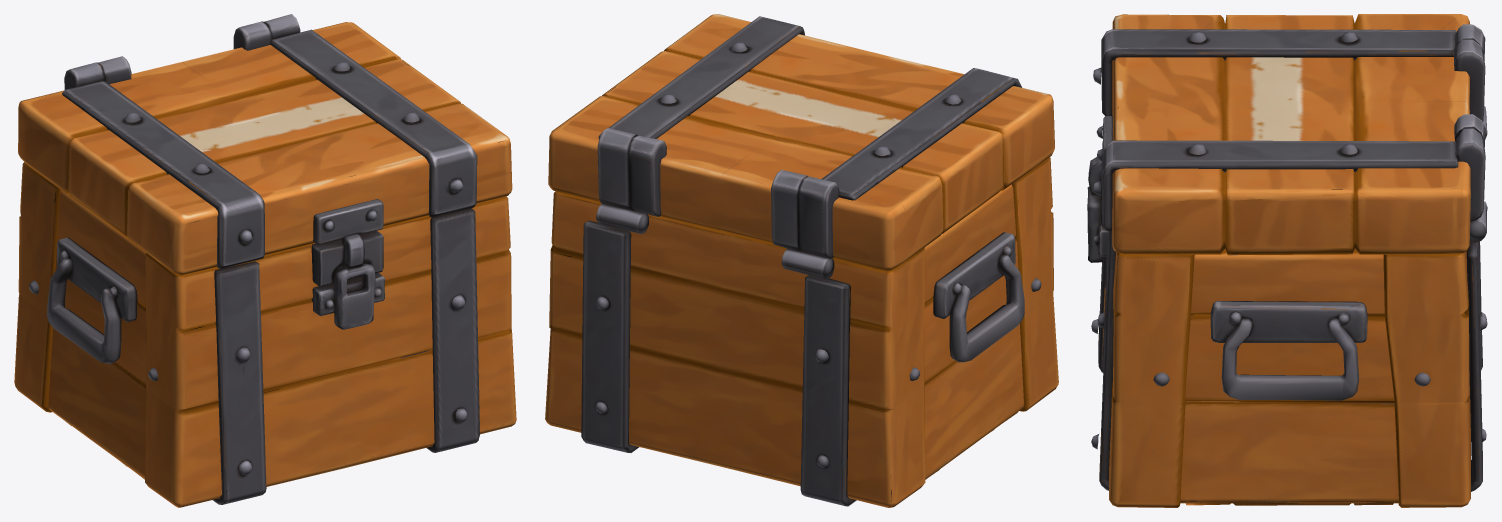
Rendered from tier-1-small.glb.
3 renders of one model, left to right at view 1: azimuth 30°, elevation 25°; view 2: azimuth 150°, elevation 25°; view 3: azimuth 270°, elevation 25°, orthographic. The views are drawn at different scales.
Visible parts, largest first — view 1: geometry_0; view 2: geometry_0; view 3: geometry_0.
Part boxes in pixels (x1=…): geometry_0: x1=14, y1=14, x2=516, y2=507; geometry_0: x1=545, y1=14, x2=1058, y2=507; geometry_0: x1=1087, y1=14, x2=1487, y2=507.
Size of the model in its own units: 0.9995 by 0.7875 by 0.8352.
Materials: 1 (1 with a texture image).
